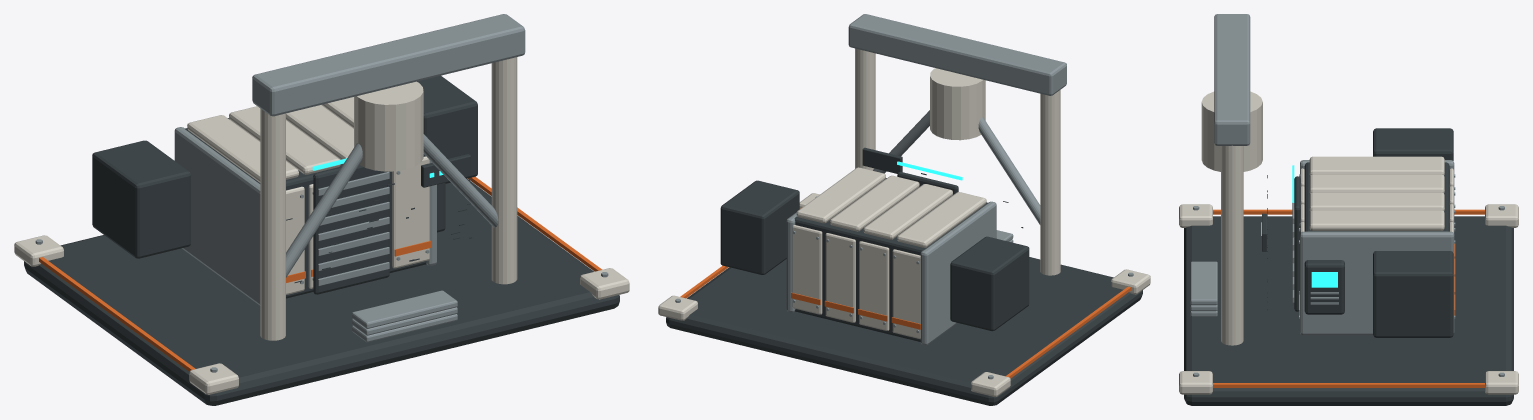
File: SM_SilicaExtractor_Body.fbx
The picture shows the model from 3 angles, left to right: view 1: azimuth 30°, elevation 25°; view 2: azimuth 150°, elevation 25°; view 3: azimuth 270°, elevation 25°; orthographic projection. The views are drawn at different scales.
Visible parts, largest first — view 1: SM_SilicaExtractor_Body; view 2: SM_SilicaExtractor_Body; view 3: SM_SilicaExtractor_Body.
Part boxes in pixels (bbox=[...]): SM_SilicaExtractor_Body: bbox=[14, 14, 629, 405]; SM_SilicaExtractor_Body: bbox=[658, 14, 1150, 405]; SM_SilicaExtractor_Body: bbox=[1179, 14, 1518, 405].
Bounding box in the file's own units: 532 × 422 × 347.
